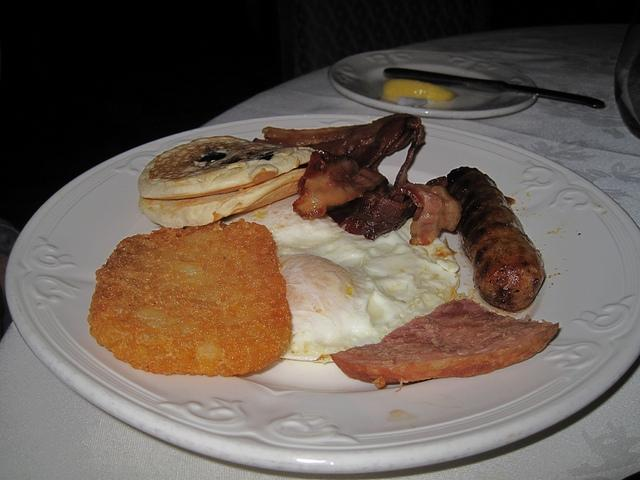potato: (86, 218, 292, 378)
